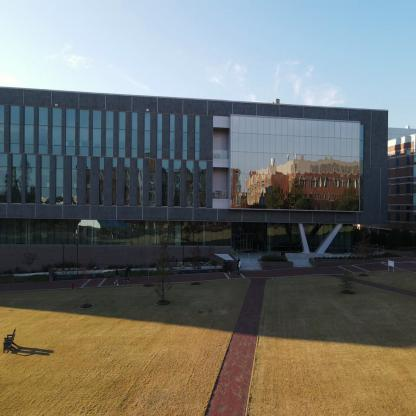Fitts- Woolard: (0, 96, 391, 286)
